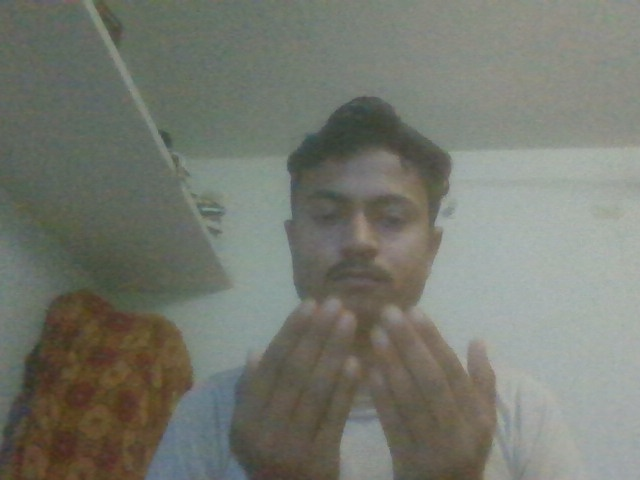Thanks: (253, 291, 503, 480)
